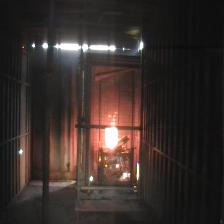fire: (103, 118, 119, 150)
